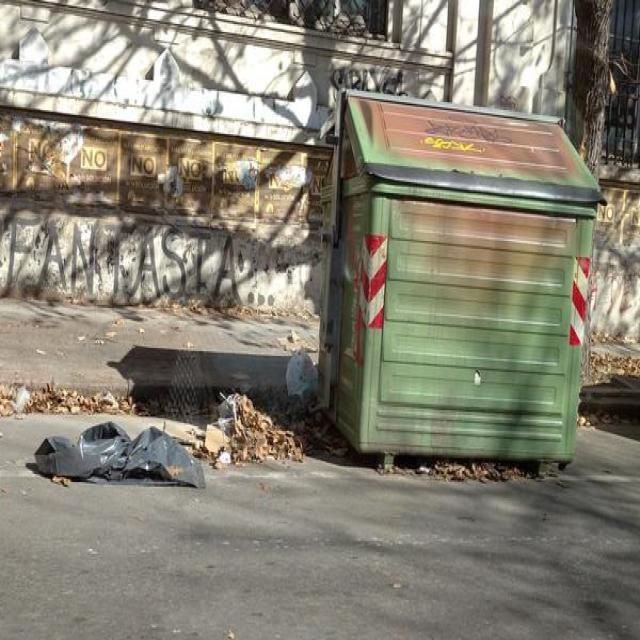garbage: (34, 421, 197, 503), (282, 335, 324, 426), (202, 386, 240, 481)
